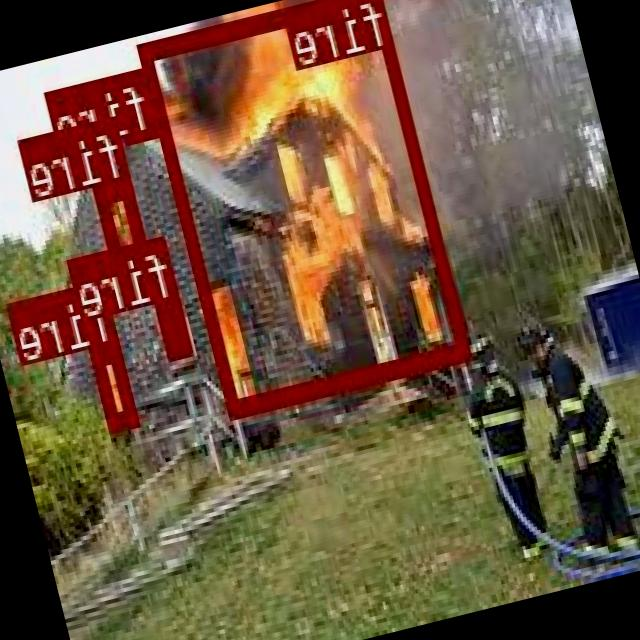fire: (138, 0, 474, 414), (94, 174, 153, 265), (92, 339, 140, 428), (112, 66, 160, 140), (158, 293, 194, 357)
